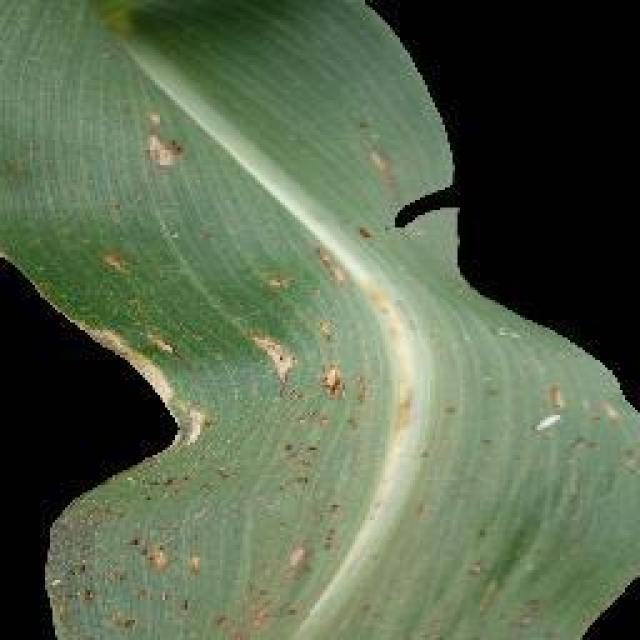Corn Common Rust: (65, 77, 510, 640)
